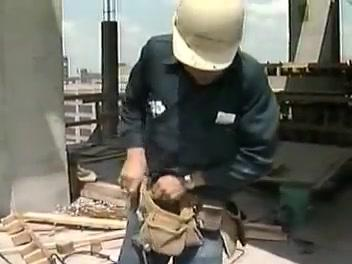no -hi-vis jacket: (140, 77, 274, 199)
